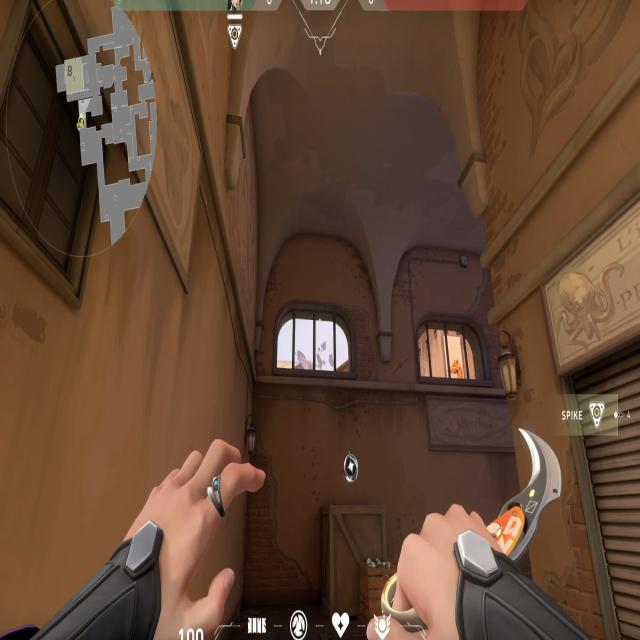B_Main_Wallbang: (305, 444, 405, 636)
Throwables: (273, 292, 361, 399), (408, 310, 500, 406)
